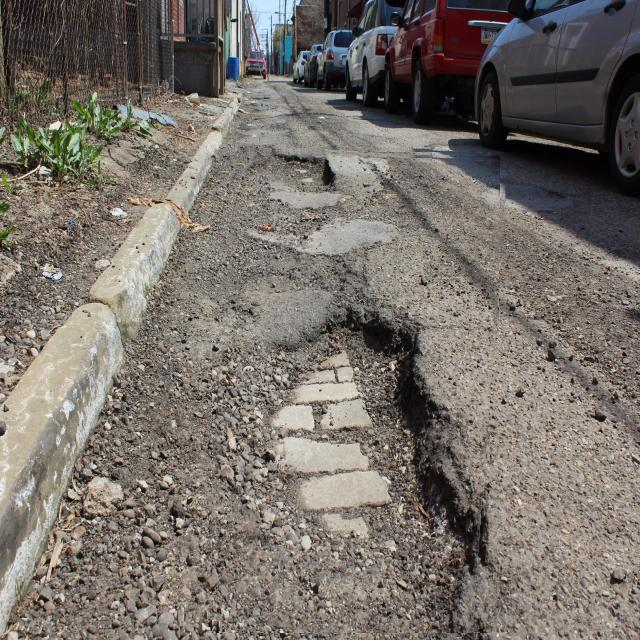Pothole: (212, 148, 500, 633)
